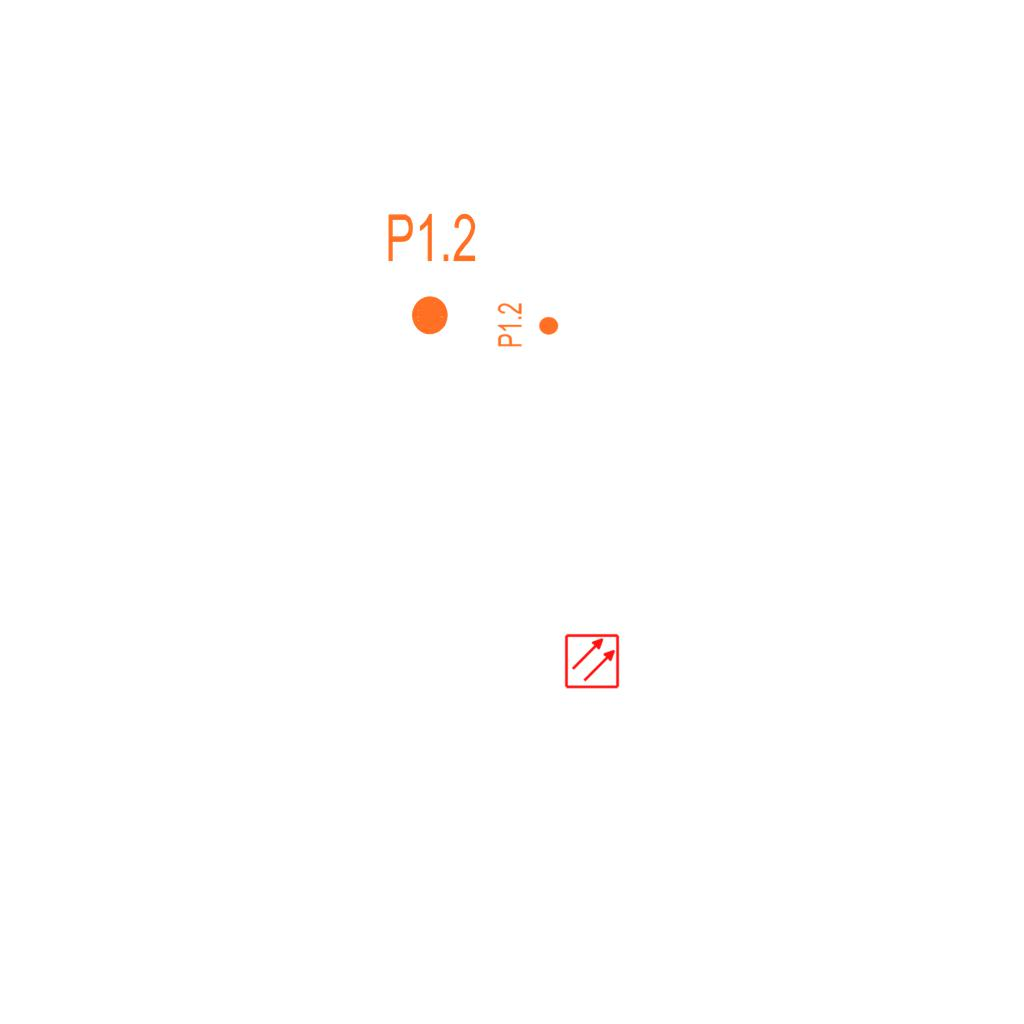Downlight_LED_Einbauleuchten_Flur: (385, 210, 478, 338), (496, 302, 560, 348)
RMO_Rauchmelder_optischer: (564, 633, 620, 689)
